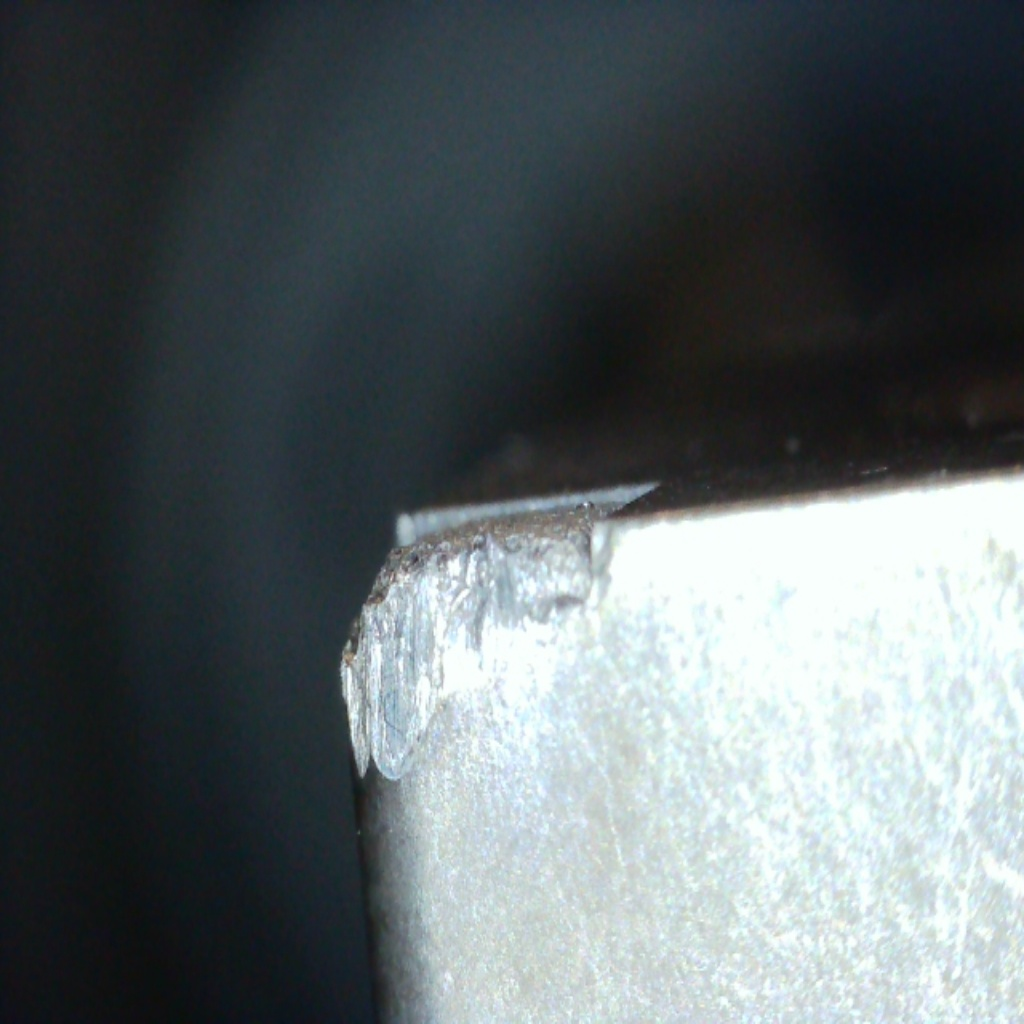flank_wear: (348, 570, 462, 798)
